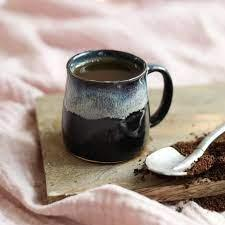Mug: (52, 37, 168, 160)
